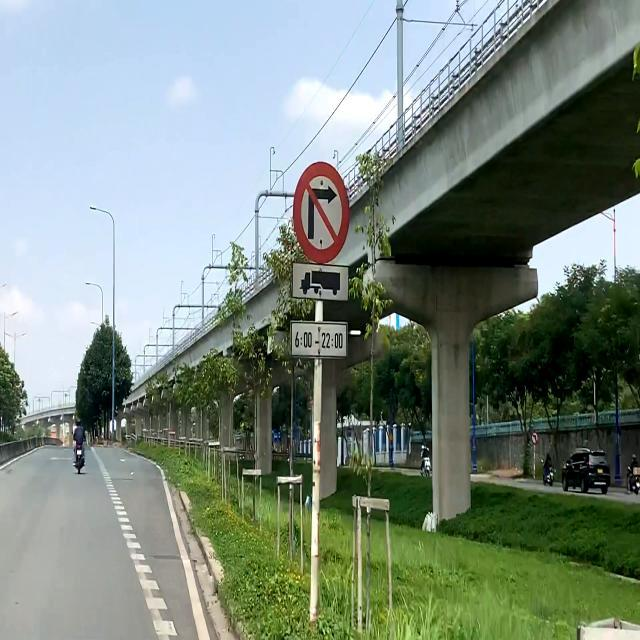Cam re phai: (292, 156, 352, 267)
